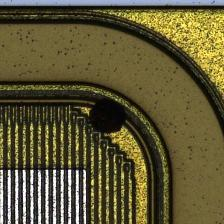PARTICLE: (88, 96, 128, 136)
